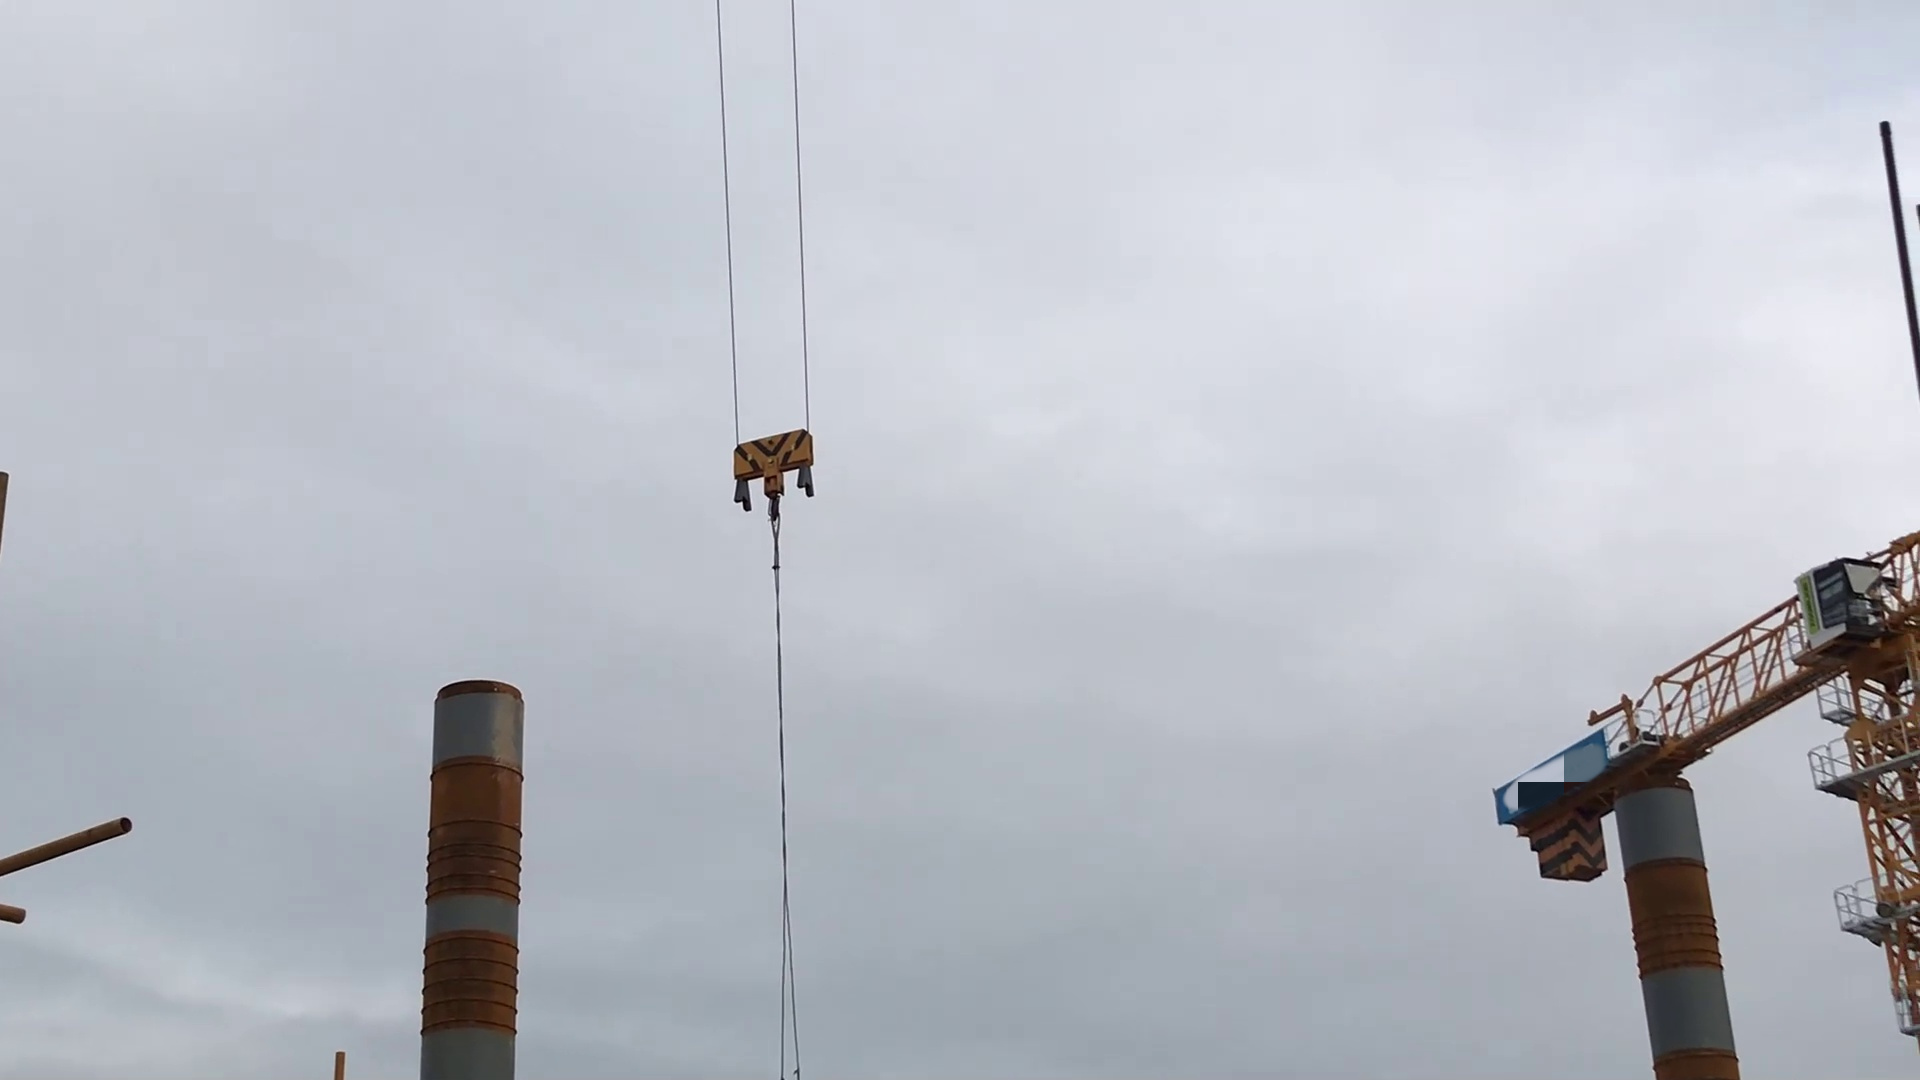hook: (729, 425, 824, 531)
